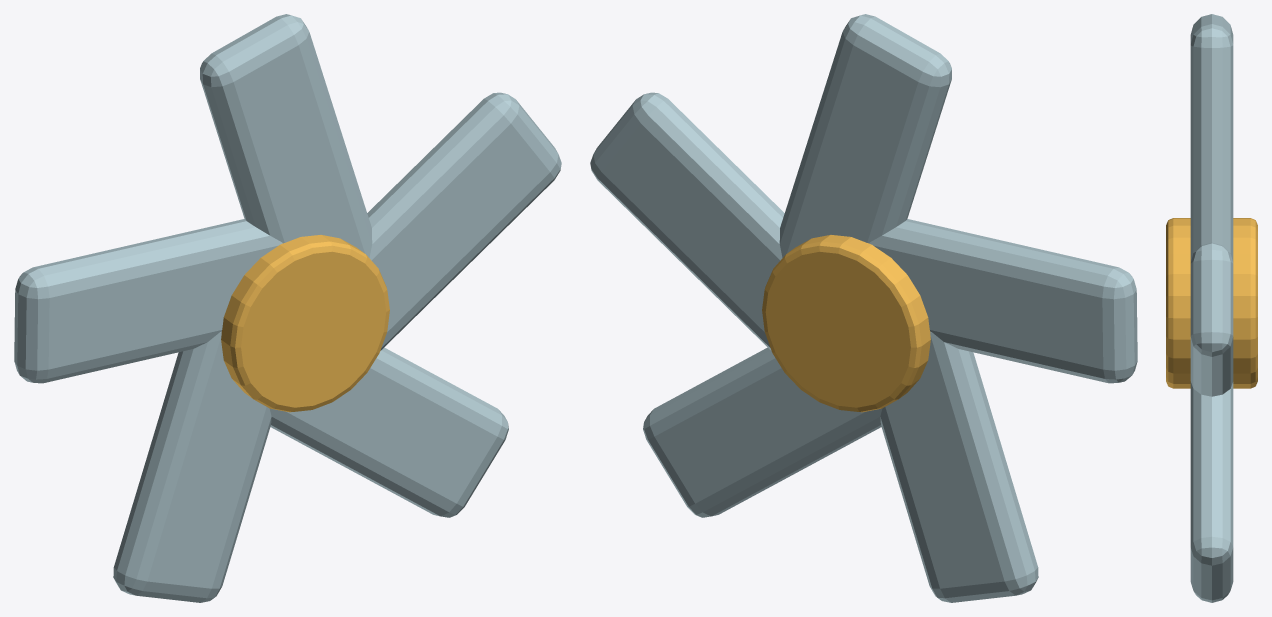
Rendered from SM_WindRotor.fbx.
3 views of the same model, side by side, from view 1: azimuth 30°, elevation 25°; view 2: azimuth 150°, elevation 25°; view 3: azimuth 270°, elevation 25° (orthographic). The views are drawn at different scales.
Visible parts, largest first — view 1: SM_WindRotor; view 2: SM_WindRotor; view 3: SM_WindRotor.
Boxes of the visible parts, <box> form: SM_WindRotor: <box>14,14,561,602</box>; SM_WindRotor: <box>590,14,1137,602</box>; SM_WindRotor: <box>1166,14,1257,602</box>.
Bounding box in the file's own units: 95.33 × 15 × 94.77.
